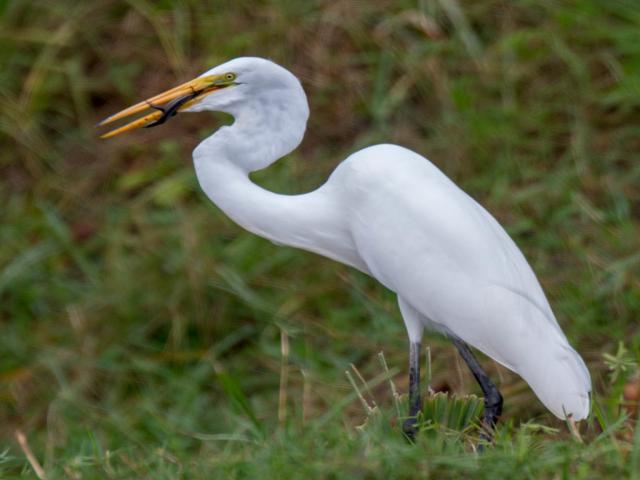Bird: (91, 55, 588, 445)
